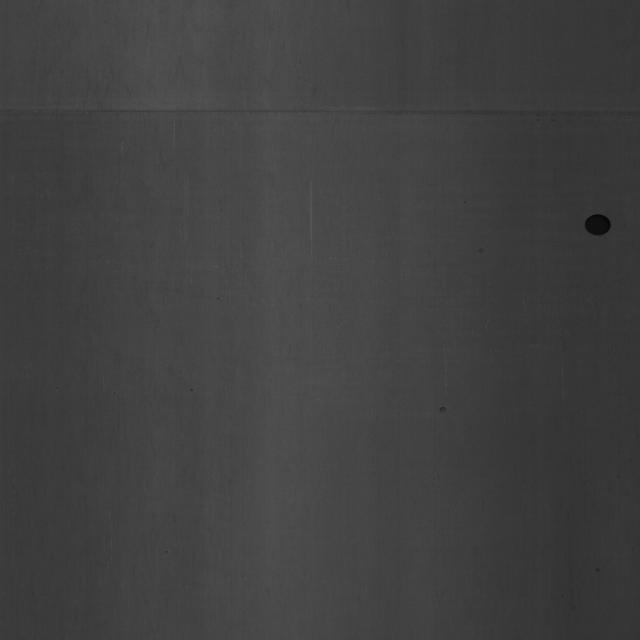crease: (3, 92, 635, 134)
crescent_gap: (582, 208, 614, 244)
